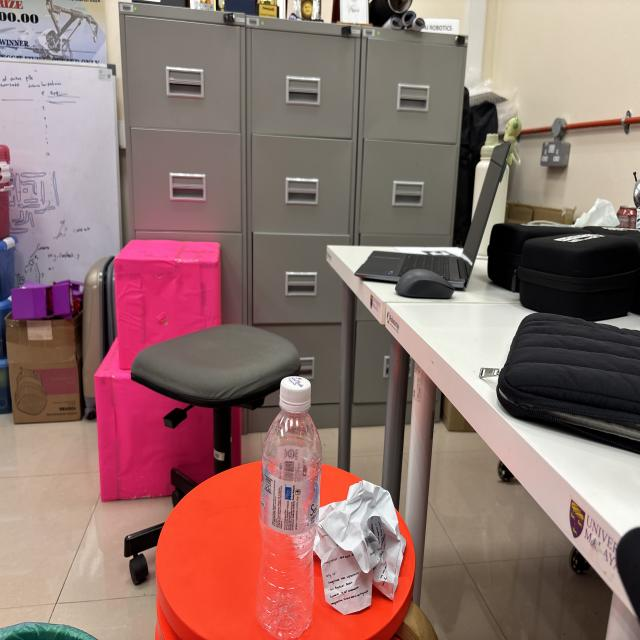crumpled_paper: (312, 473, 410, 625)
plastic_bottle: (255, 369, 325, 640)
